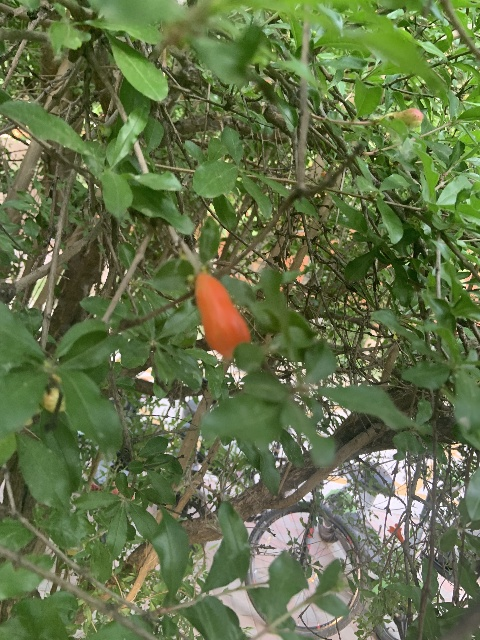bud: (194, 273, 250, 361), (395, 108, 423, 127)
flower: (386, 523, 404, 543)
